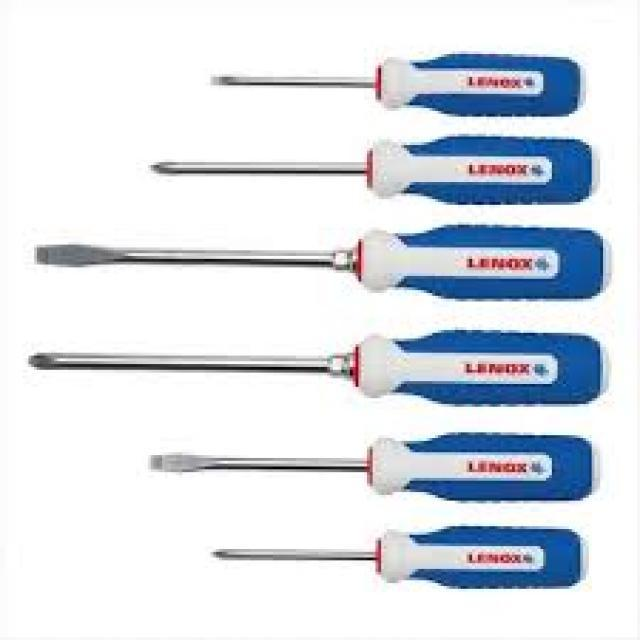screwdriver: (12, 314, 614, 410), (26, 216, 612, 307), (138, 427, 609, 512), (149, 130, 607, 210), (196, 45, 590, 124), (210, 522, 594, 598)
